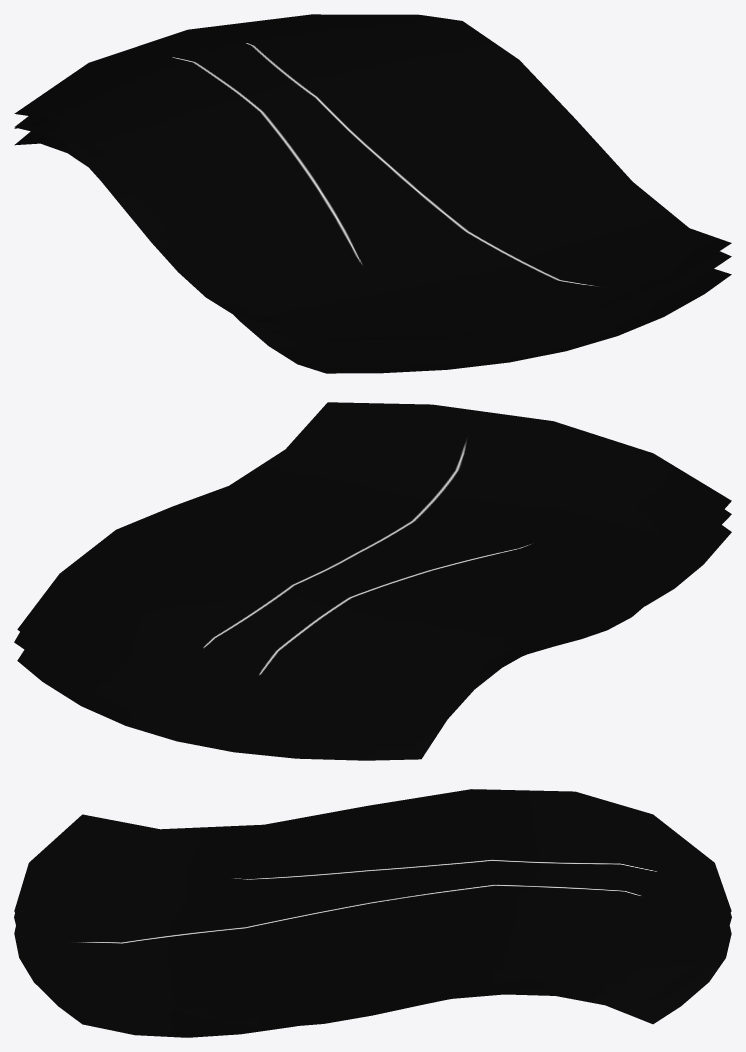
The model's file is HairPlanesWaveyGroup.FBX.
3 views of the same model, one above another, from view 1: azimuth 30°, elevation 25°; view 2: azimuth 150°, elevation 25°; view 3: azimuth 270°, elevation 25° (orthographic). The views are drawn at different scales.
Visible parts, largest first — view 1: Plane_FlyAways, Plane_HairsHeavy, Plane_HairsLight, Plane_HairsMedium; view 2: Plane_FlyAways, Plane_HairsHeavy, Plane_HairsLight, Plane_HairsMedium; view 3: Plane_FlyAways, Plane_HairsLight, Plane_HairsHeavy, Plane_HairsMedium.
Boxes of the visible parts, bbox=[...] form: Plane_FlyAways: bbox=[14, 14, 731, 341]; Plane_HairsHeavy: bbox=[14, 131, 731, 373]; Plane_HairsLight: bbox=[14, 116, 731, 355]; Plane_HairsMedium: bbox=[14, 118, 276, 322]; Plane_FlyAways: bbox=[17, 402, 731, 728]; Plane_HairsHeavy: bbox=[17, 525, 731, 760]; Plane_HairsLight: bbox=[17, 509, 731, 742]; Plane_HairsMedium: bbox=[14, 561, 677, 749]; Plane_FlyAways: bbox=[14, 789, 731, 1010]; Plane_HairsLight: bbox=[14, 913, 731, 1024]; Plane_HairsHeavy: bbox=[14, 926, 731, 1037]; Plane_HairsMedium: bbox=[176, 972, 665, 1027].
Size of the model in its own units: 104 by 17.24 by 166.
